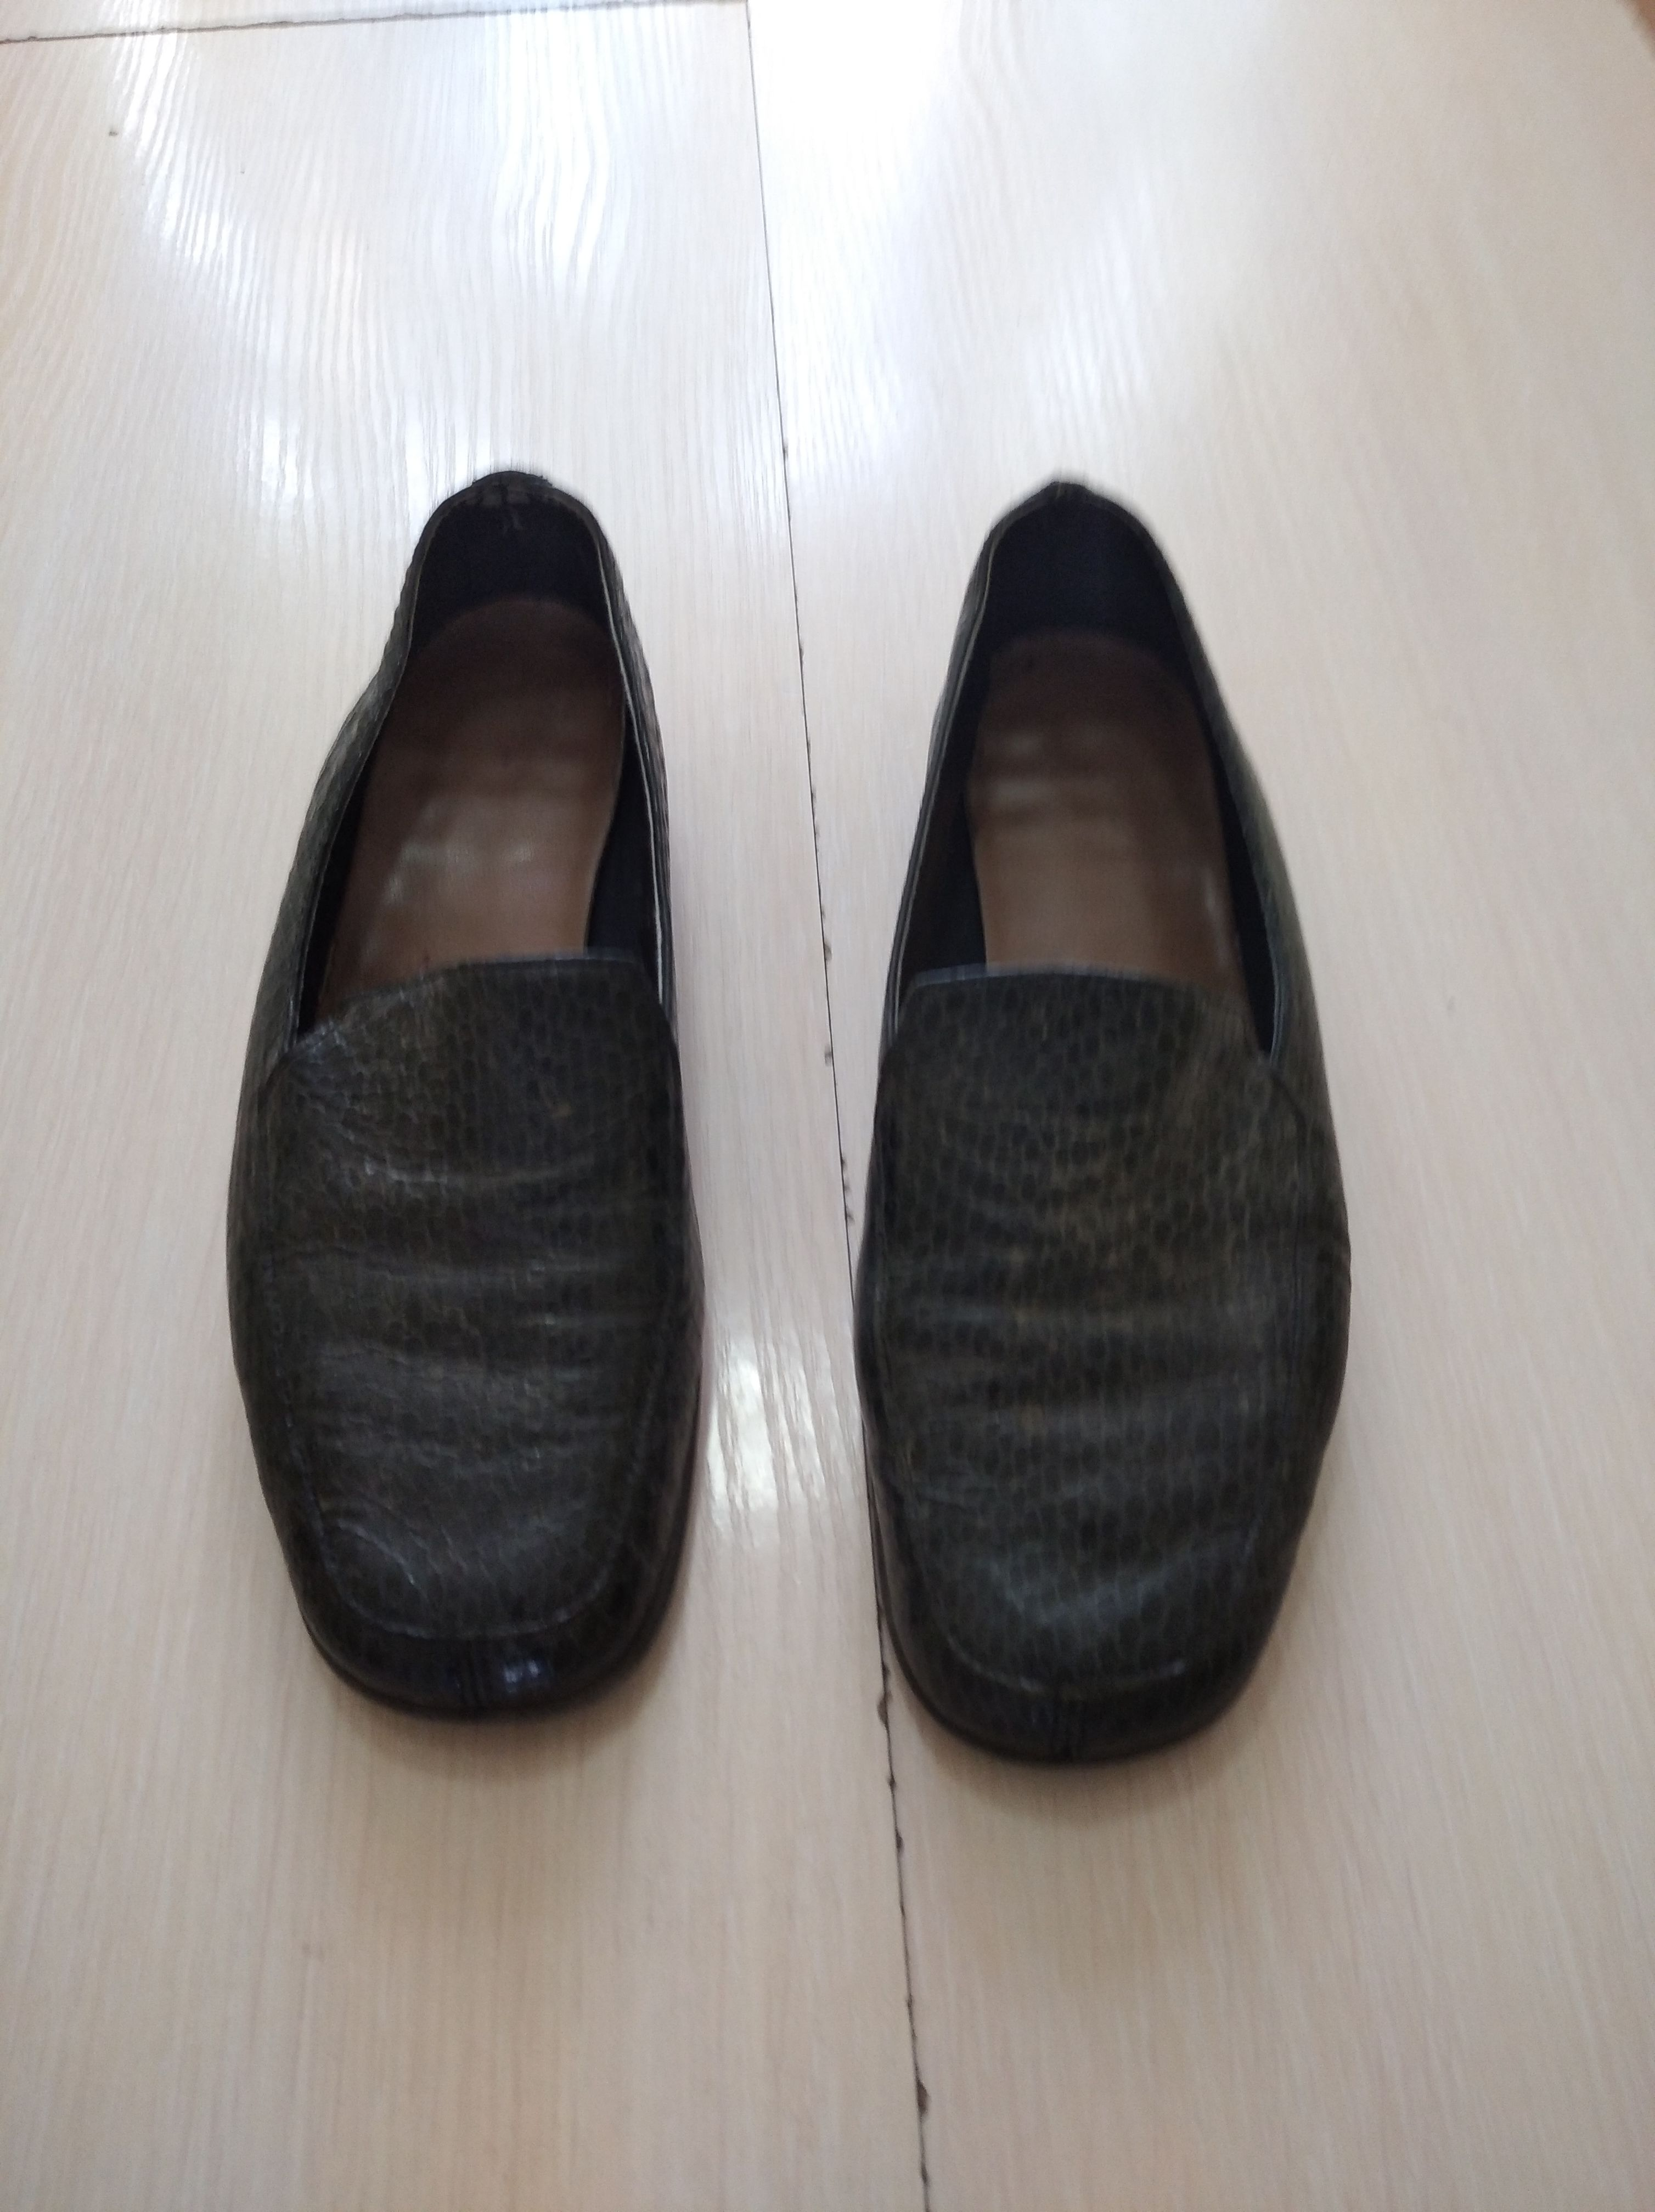clothes: (196, 433, 716, 1739), (869, 452, 1361, 1790)
